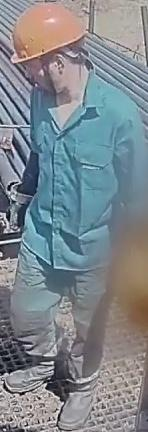gloves: (7, 181, 36, 232)
helmet: (9, 2, 87, 64)
vest: (22, 74, 148, 269)
